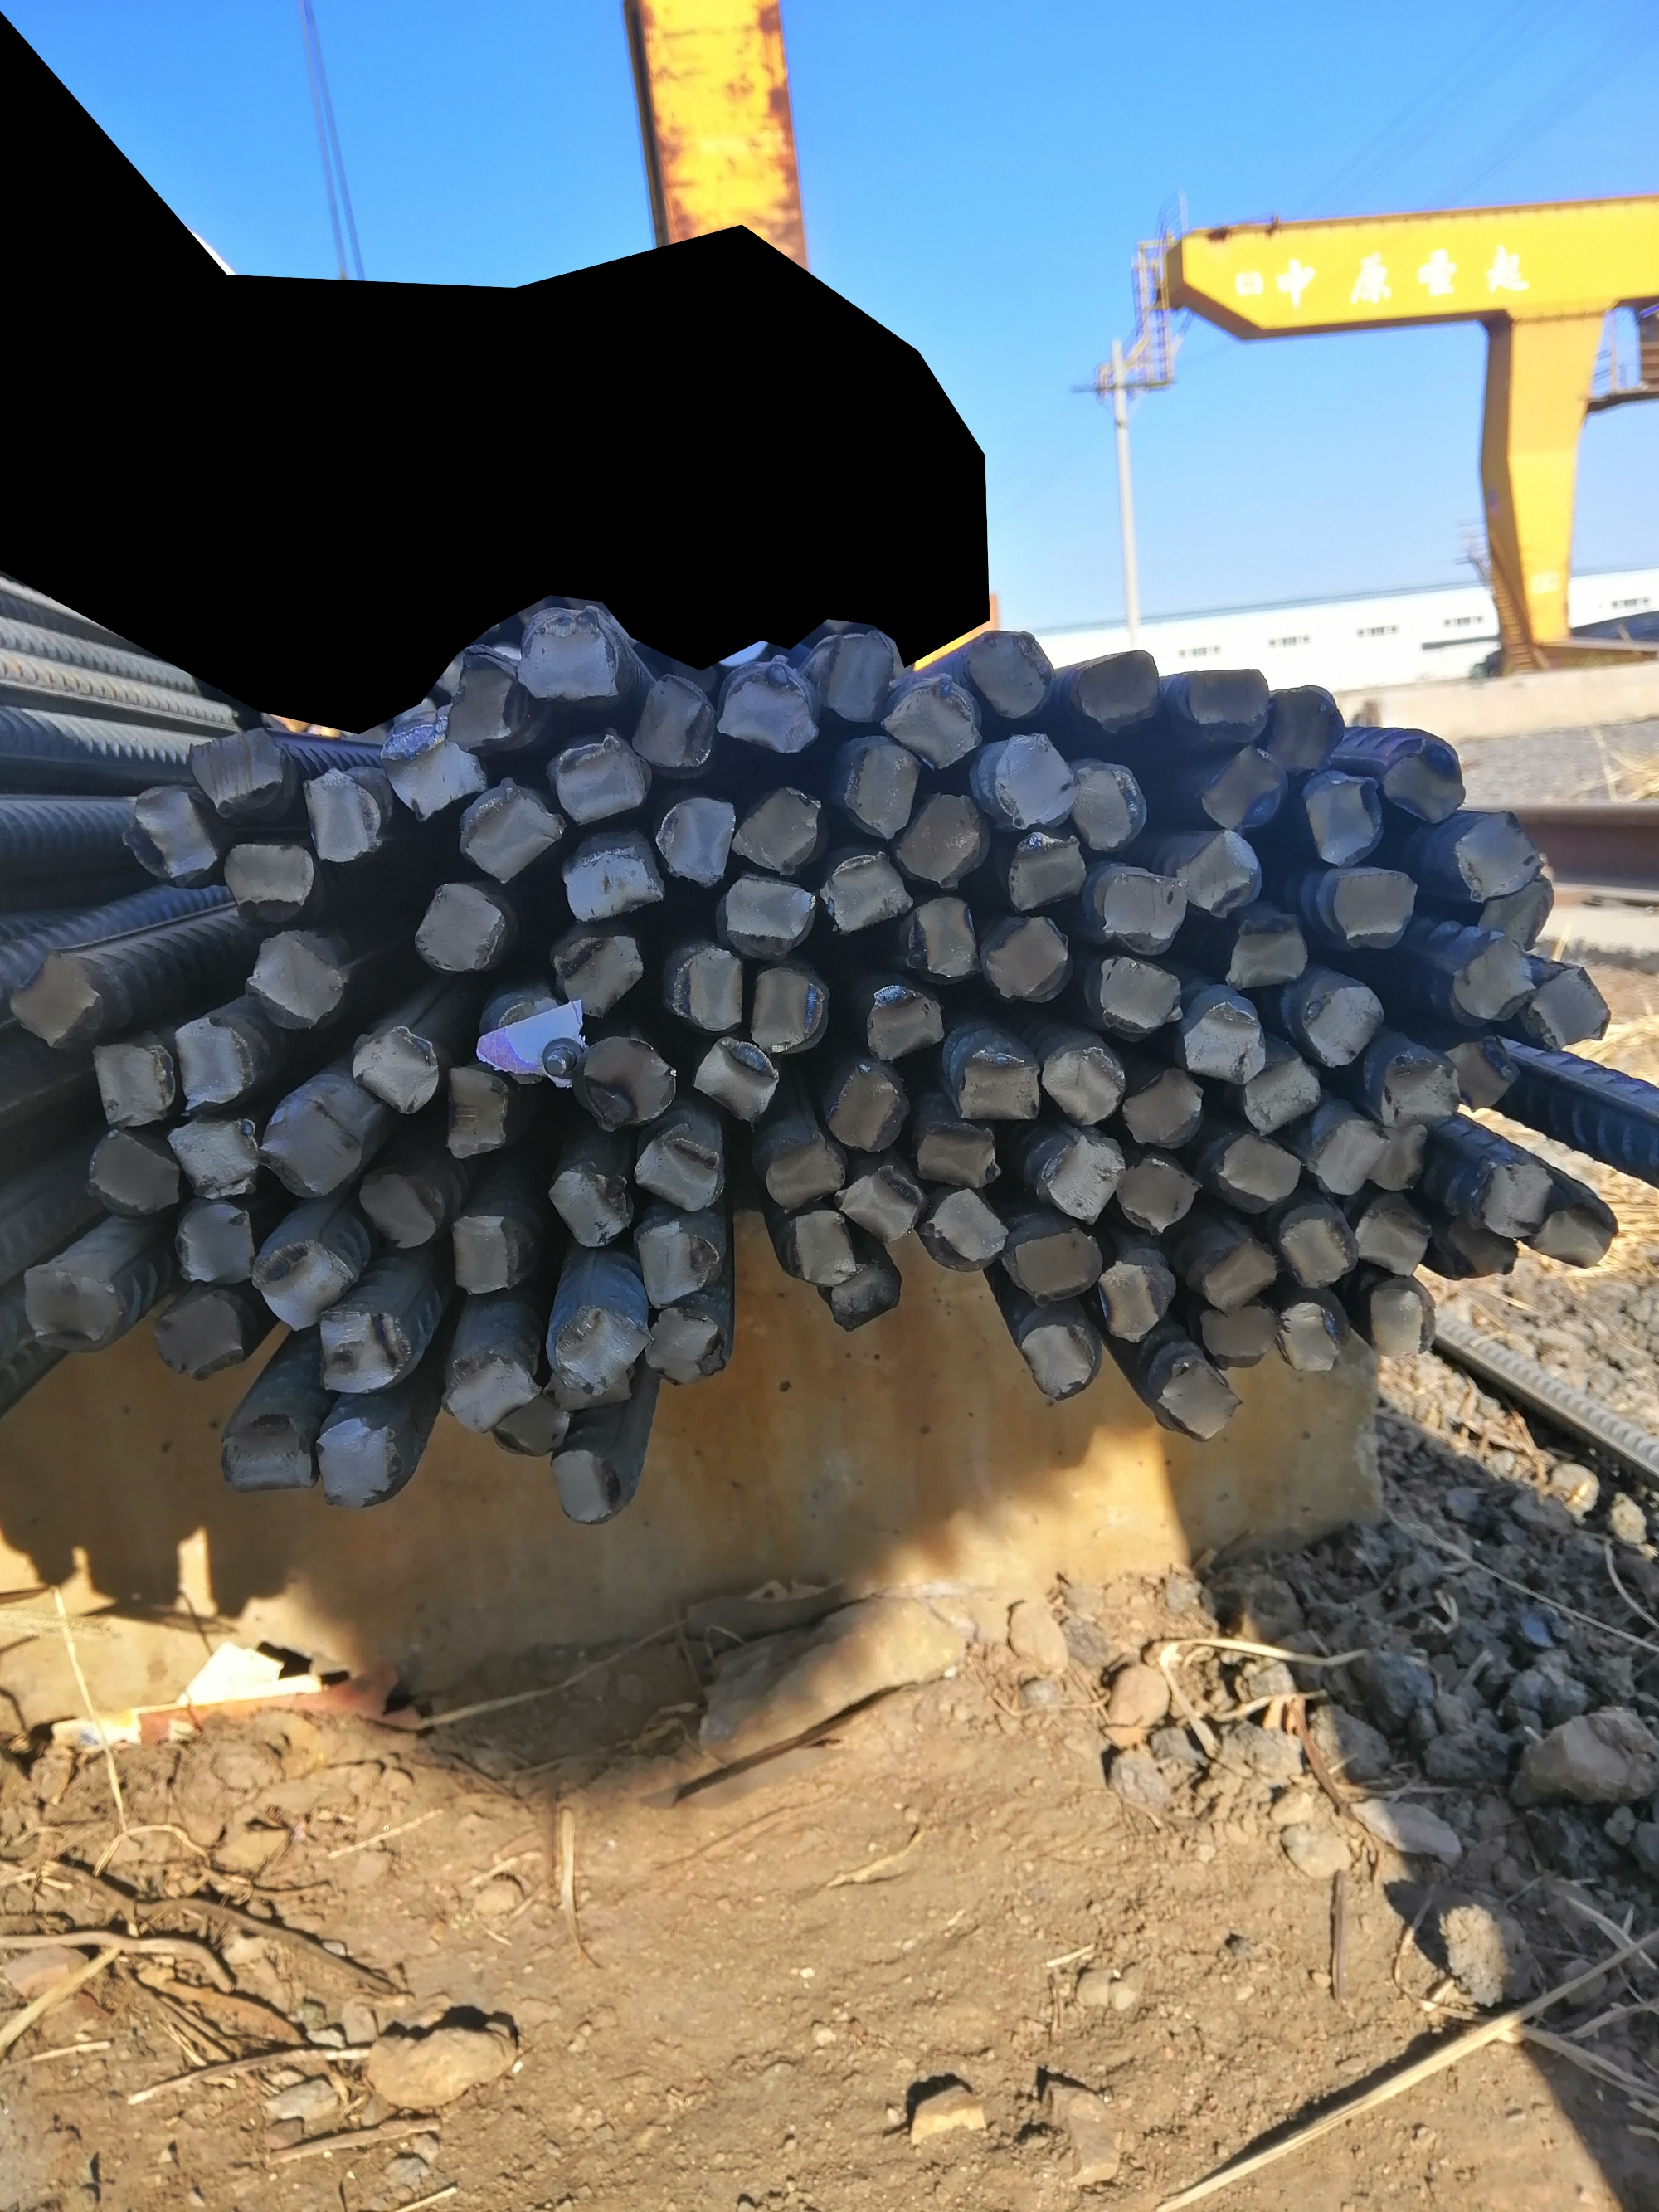rebar: (258, 1089, 366, 1204), (448, 779, 563, 885), (117, 779, 220, 889), (378, 725, 488, 826), (19, 1255, 124, 1356), (714, 657, 821, 757), (249, 1236, 352, 1337), (545, 1302, 657, 1394), (242, 931, 343, 1032), (575, 1030, 674, 1133), (10, 947, 105, 1055), (549, 732, 647, 833), (990, 722, 1080, 830), (448, 643, 535, 755), (310, 1414, 408, 1513), (152, 1286, 247, 1386), (1439, 933, 1539, 1028), (483, 992, 577, 1089), (730, 779, 824, 877), (186, 725, 286, 818), (1452, 804, 1540, 906), (220, 1407, 315, 1501), (631, 1123, 727, 1217), (312, 1304, 410, 1396), (87, 1037, 185, 1130), (882, 676, 981, 767), (523, 612, 619, 704), (413, 880, 504, 978), (816, 845, 915, 934), (303, 763, 390, 865), (1300, 767, 1385, 870), (561, 844, 660, 931), (721, 868, 816, 959), (627, 673, 714, 770), (221, 833, 314, 924), (744, 964, 836, 1055), (84, 1128, 178, 1217), (1039, 1133, 1127, 1227), (821, 1062, 908, 1157), (985, 915, 1075, 1006), (1070, 643, 1162, 732), (843, 737, 922, 840), (446, 1210, 535, 1300), (551, 931, 641, 1020), (897, 795, 986, 885), (173, 1011, 258, 1105), (350, 1023, 436, 1117), (655, 793, 739, 889), (833, 1164, 929, 1248), (1096, 1253, 1180, 1349), (1202, 743, 1290, 833), (443, 1347, 535, 1433), (967, 624, 1051, 718), (634, 1218, 721, 1307), (547, 1161, 634, 1250), (1098, 865, 1185, 953), (167, 1117, 258, 1203), (1154, 1354, 1239, 1445), (1523, 962, 1608, 1053), (357, 1168, 450, 1252), (1089, 955, 1183, 1037), (816, 628, 892, 727), (173, 1201, 258, 1290), (1182, 995, 1265, 1086), (924, 1184, 1006, 1276), (1382, 734, 1462, 828), (1072, 755, 1147, 854), (641, 1302, 727, 1389), (690, 1037, 777, 1123), (1330, 868, 1417, 953), (1178, 830, 1263, 917), (1117, 1067, 1206, 1150), (1279, 1198, 1361, 1288), (1304, 980, 1384, 1072), (1016, 1318, 1103, 1400), (1037, 1042, 1124, 1124), (1180, 661, 1269, 741), (1263, 687, 1344, 776), (760, 1137, 849, 1217), (906, 891, 981, 985), (864, 981, 948, 1065), (1006, 830, 1087, 913), (1480, 1161, 1560, 1246), (1117, 1154, 1199, 1236), (957, 1048, 1040, 1128), (1012, 1227, 1100, 1304), (1197, 1239, 1277, 1321), (1474, 873, 1554, 955), (667, 947, 746, 1030), (1225, 915, 1312, 990), (1218, 1131, 1300, 1210), (1241, 1051, 1316, 1135), (446, 1065, 512, 1159), (779, 1206, 856, 1286), (913, 1121, 1000, 1191), (1375, 1051, 1459, 1123), (1363, 1274, 1434, 1356), (488, 1386, 572, 1455), (1443, 1035, 1520, 1110), (824, 1257, 896, 1337), (1352, 1199, 1424, 1278), (1532, 1201, 1608, 1272), (551, 1447, 617, 1527), (1312, 1116, 1378, 1196), (1439, 1218, 1521, 1281), (1201, 1300, 1270, 1370), (1277, 1297, 1338, 1375), (545, 1363, 634, 1415), (1368, 1121, 1425, 1189)
